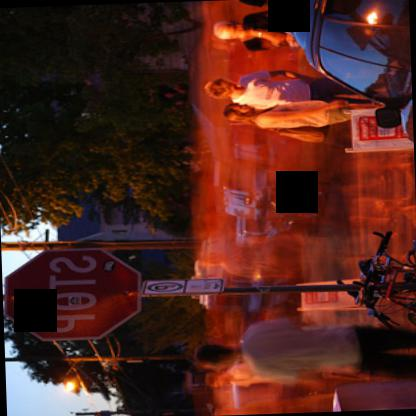handbag: (266, 124, 333, 141)
